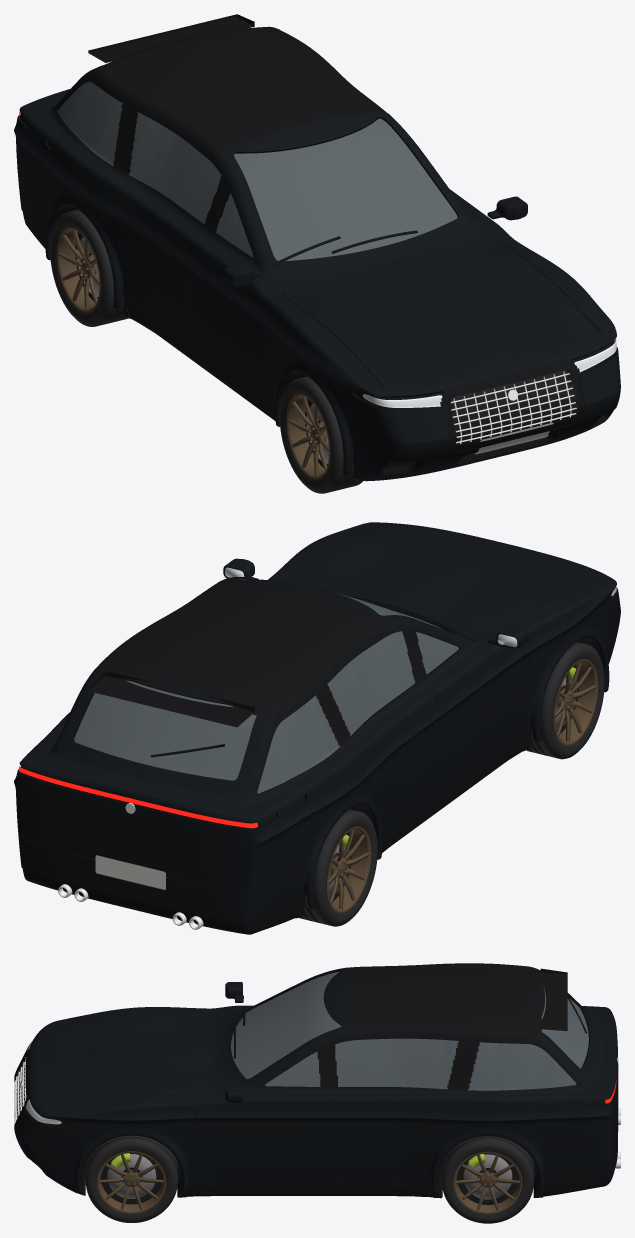
Rendered from nordvik-varg.fbx.
3 views of the same model, one above another, from view 1: azimuth 30°, elevation 25°; view 2: azimuth 150°, elevation 25°; view 3: azimuth 270°, elevation 25° (orthographic). The views are drawn at different scales.
Parts seen in each view (by area): view 1: Body_LOD0, Glass_LOD0, Gloss_LOD0, Wheel_FR_LOD0, Wheel_RR_LOD0, Grille_LOD0, Walls_LOD0, GrilleBars_LOD0, RoofSpoiler_LOD0, HeadlightLens_LOD0; view 2: Body_LOD0, Gloss_LOD0, Glass_LOD0, Wheel_FR_LOD0, Wheel_RR_LOD0, RoofSpoiler_LOD0, Walls_LOD0, Plate_LOD0, TaillightLens_LOD0, Exhaust; view 3: Body_LOD0, Gloss_LOD0, Glass_LOD0, Wheel_RL_LOD0, Wheel_FL_LOD0, RoofSpoiler_LOD0, Walls_LOD0, GrilleBars_LOD0.
Boxes of the visible parts, x1=… form: Body_LOD0: x1=14, y1=69, x2=620, y2=481; Glass_LOD0: x1=58, y1=82, x2=457, y2=261; Gloss_LOD0: x1=20, y1=26, x2=615, y2=452; Wheel_FR_LOD0: x1=279, y1=376, x2=362, y2=493; Wheel_RR_LOD0: x1=50, y1=209, x2=128, y2=326; Grille_LOD0: x1=384, y1=369, x2=578, y2=467; Walls_LOD0: x1=17, y1=30, x2=618, y2=474; GrilleBars_LOD0: x1=451, y1=371, x2=576, y2=443; RoofSpoiler_LOD0: x1=88, y1=14, x2=254, y2=62; HeadlightLens_LOD0: x1=362, y1=338, x2=616, y2=407; Body_LOD0: x1=14, y1=522, x2=620, y2=922; Gloss_LOD0: x1=20, y1=581, x2=612, y2=934; Glass_LOD0: x1=74, y1=579, x2=458, y2=793; Wheel_FR_LOD0: x1=526, y1=641, x2=604, y2=759; Wheel_RR_LOD0: x1=298, y1=809, x2=377, y2=926; RoofSpoiler_LOD0: x1=88, y1=671, x2=254, y2=727; Walls_LOD0: x1=17, y1=524, x2=618, y2=918; Plate_LOD0: x1=94, y1=855, x2=167, y2=889; TaillightLens_LOD0: x1=18, y1=766, x2=257, y2=828; Exhaust: x1=58, y1=884, x2=203, y2=929; Body_LOD0: x1=14, y1=967, x2=618, y2=1198; Gloss_LOD0: x1=14, y1=963, x2=614, y2=1197; Glass_LOD0: x1=231, y1=971, x2=588, y2=1090; Wheel_RL_LOD0: x1=442, y1=1136, x2=533, y2=1223; Wheel_FL_LOD0: x1=85, y1=1135, x2=177, y2=1222; RoofSpoiler_LOD0: x1=540, y1=968, x2=567, y2=1031; Walls_LOD0: x1=14, y1=970, x2=618, y2=1184; GrilleBars_LOD0: x1=14, y1=1057, x2=26, y2=1123.
Size of what is drawn, in the model's own units: 2.17 by 1.65 by 4.94.
